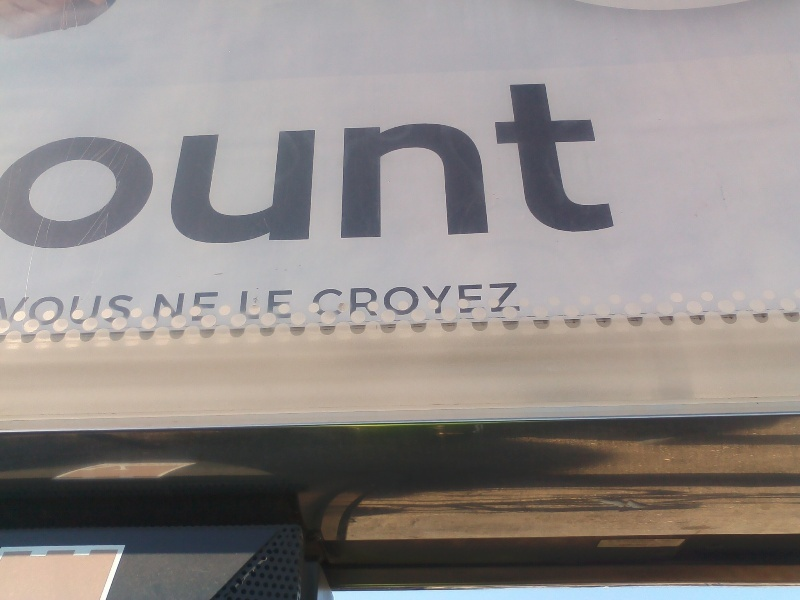text: (1, 74, 16, 254), (17, 74, 32, 254), (33, 74, 48, 254), (49, 74, 64, 254), (65, 74, 80, 254), (81, 74, 96, 254), (97, 74, 112, 254), (113, 74, 128, 254), (129, 74, 144, 254), (145, 74, 160, 254), (161, 74, 176, 254), (177, 74, 192, 254), (193, 74, 208, 254), (209, 74, 224, 254), (225, 74, 240, 254), (241, 74, 256, 254), (257, 74, 272, 254), (273, 74, 288, 254), (289, 74, 304, 254), (305, 74, 320, 254), (321, 74, 336, 254), (337, 74, 352, 254), (353, 74, 368, 254), (369, 74, 384, 254), (385, 74, 400, 254), (401, 74, 416, 254), (417, 74, 432, 254), (433, 74, 448, 254), (449, 74, 464, 254), (465, 74, 480, 254), (481, 74, 496, 254), (497, 74, 512, 254), (513, 74, 528, 254), (529, 74, 544, 254), (545, 74, 560, 254), (561, 74, 576, 254), (577, 74, 592, 254), (593, 74, 608, 254), (609, 74, 624, 254), (321, 281, 336, 321), (337, 281, 352, 321), (353, 281, 368, 321), (369, 281, 384, 321), (385, 281, 400, 321), (401, 281, 416, 321), (417, 281, 432, 321), (433, 281, 448, 321), (449, 281, 464, 321), (465, 281, 480, 321), (481, 281, 496, 321), (497, 281, 512, 321), (17, 292, 32, 326), (33, 292, 48, 326), (49, 292, 64, 326), (65, 292, 80, 326), (81, 292, 96, 326), (97, 292, 112, 326), (113, 292, 128, 326), (161, 291, 176, 325), (177, 291, 192, 325), (193, 291, 208, 325), (241, 290, 256, 321), (257, 290, 272, 321), (273, 290, 288, 321), (3, 292, 16, 326), (209, 291, 221, 325), (311, 281, 320, 321), (513, 281, 521, 321), (129, 292, 136, 326), (625, 74, 626, 254), (156, 291, 160, 325), (289, 290, 293, 321)
